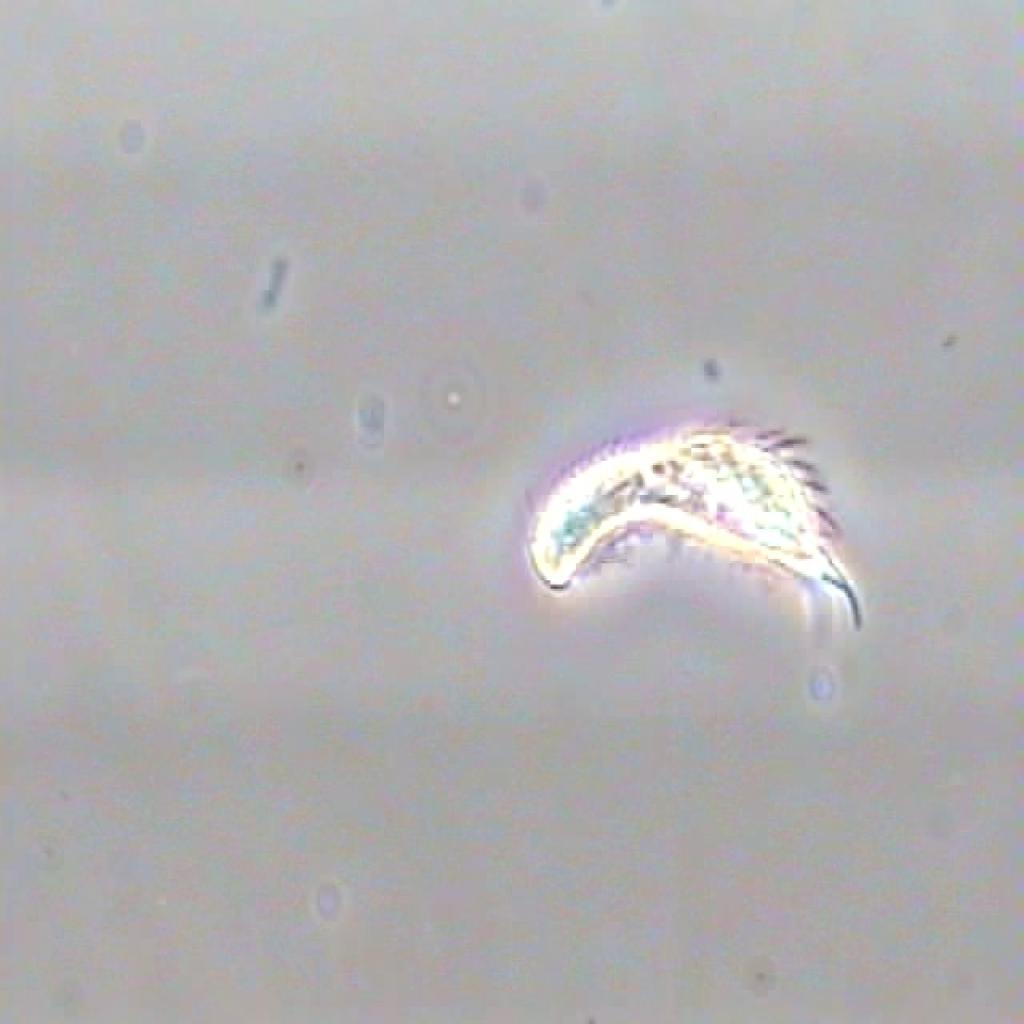Chaetonotus: (490, 401, 894, 668)
